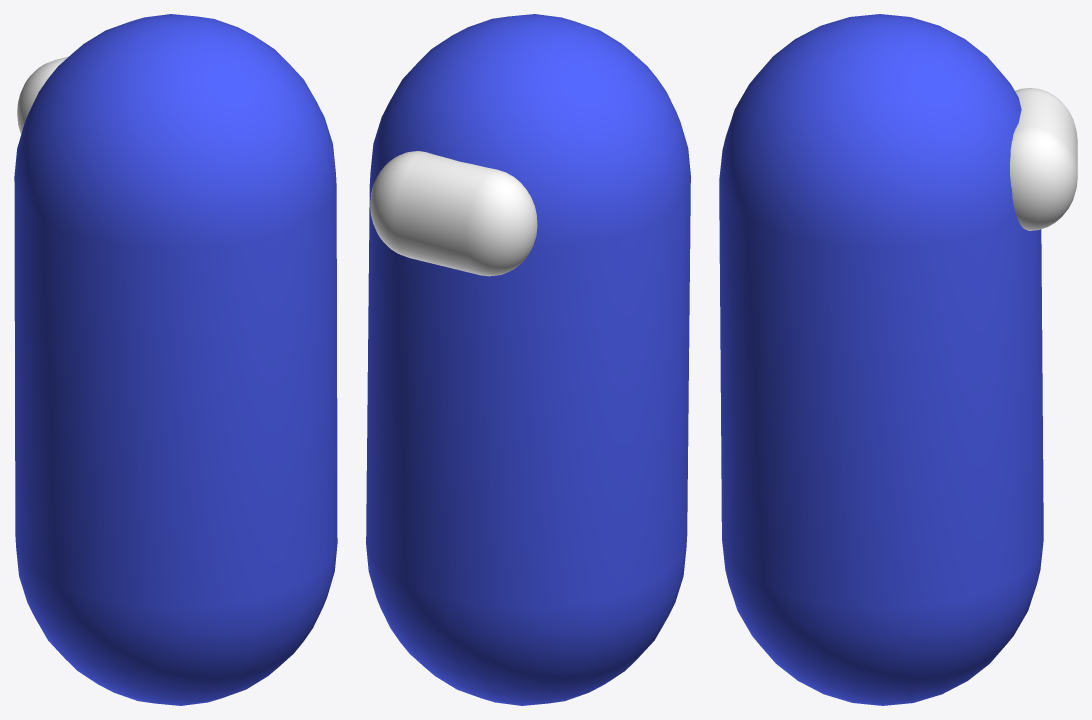
File: PlayerLooks_V3.fbx
3 views of the same model, side by side, from view 1: azimuth 30°, elevation 25°; view 2: azimuth 150°, elevation 25°; view 3: azimuth 270°, elevation 25° (orthographic).
Visible parts, largest first — view 1: Playerbody_deco, eye_decorative; view 2: Playerbody_deco, eye_decorative; view 3: Playerbody_deco, eye_decorative.
Boxes of the visible parts, left/top/right/bottom form: Playerbody_deco: left=14, top=14, right=337, bottom=705; eye_decorative: left=17, top=56, right=68, bottom=134; Playerbody_deco: left=366, top=14, right=690, bottom=705; eye_decorative: left=370, top=151, right=537, bottom=276; Playerbody_deco: left=719, top=14, right=1043, bottom=705; eye_decorative: left=1010, top=88, right=1077, bottom=230.
Bounding box in the file's own units: 58.93 × 133 × 65.14.
